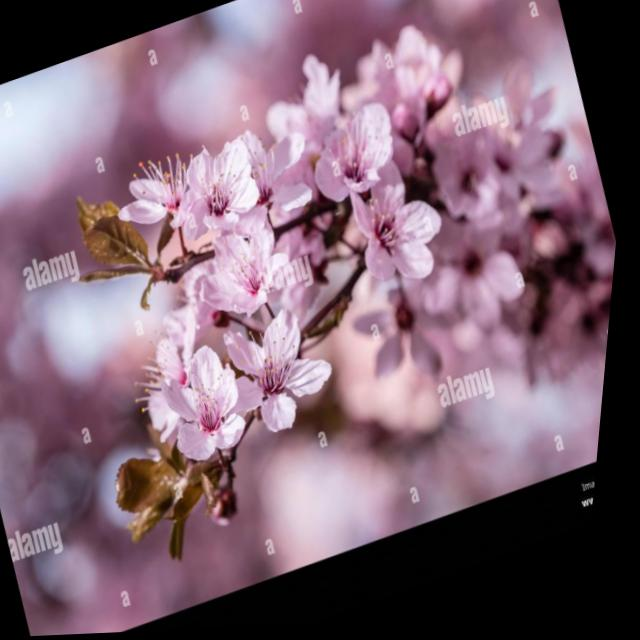Flower: (131, 106, 320, 265), (200, 297, 358, 451), (332, 161, 473, 308), (290, 89, 418, 216), (150, 335, 271, 469), (181, 214, 309, 337)
